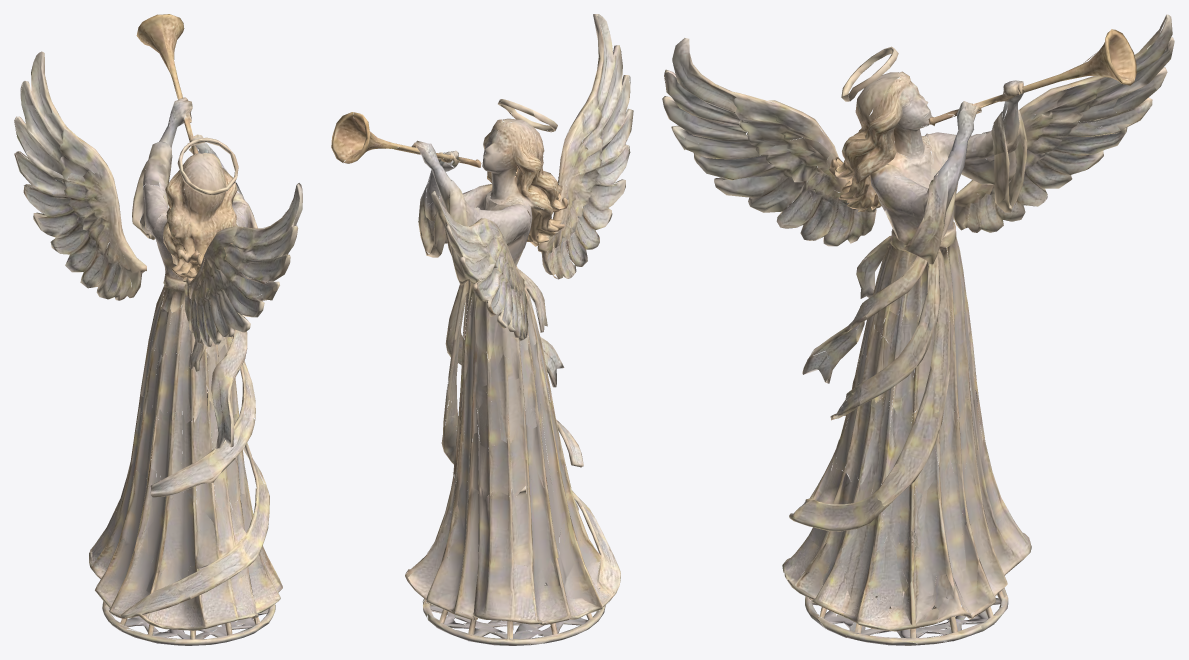
Rendered from angel.glb.
The picture shows the model from 3 angles, left to right: view 1: azimuth 30°, elevation 25°; view 2: azimuth 150°, elevation 25°; view 3: azimuth 270°, elevation 25°; orthographic projection. The views are drawn at different scales.
Parts seen in each view (by area): view 1: tripo_node_c9a2e185-53f3-4a6a-b664-08e49accff9b; view 2: tripo_node_c9a2e185-53f3-4a6a-b664-08e49accff9b; view 3: tripo_node_c9a2e185-53f3-4a6a-b664-08e49accff9b.
Part boxes in pixels (x1=…): tripo_node_c9a2e185-53f3-4a6a-b664-08e49accff9b: x1=14, y1=14, x2=302, y2=645; tripo_node_c9a2e185-53f3-4a6a-b664-08e49accff9b: x1=331, y1=14, x2=633, y2=645; tripo_node_c9a2e185-53f3-4a6a-b664-08e49accff9b: x1=662, y1=14, x2=1174, y2=645.
Size of the model in its own units: 0.334 by 1 by 0.7657.
Materials: 1 (1 with a texture image).
